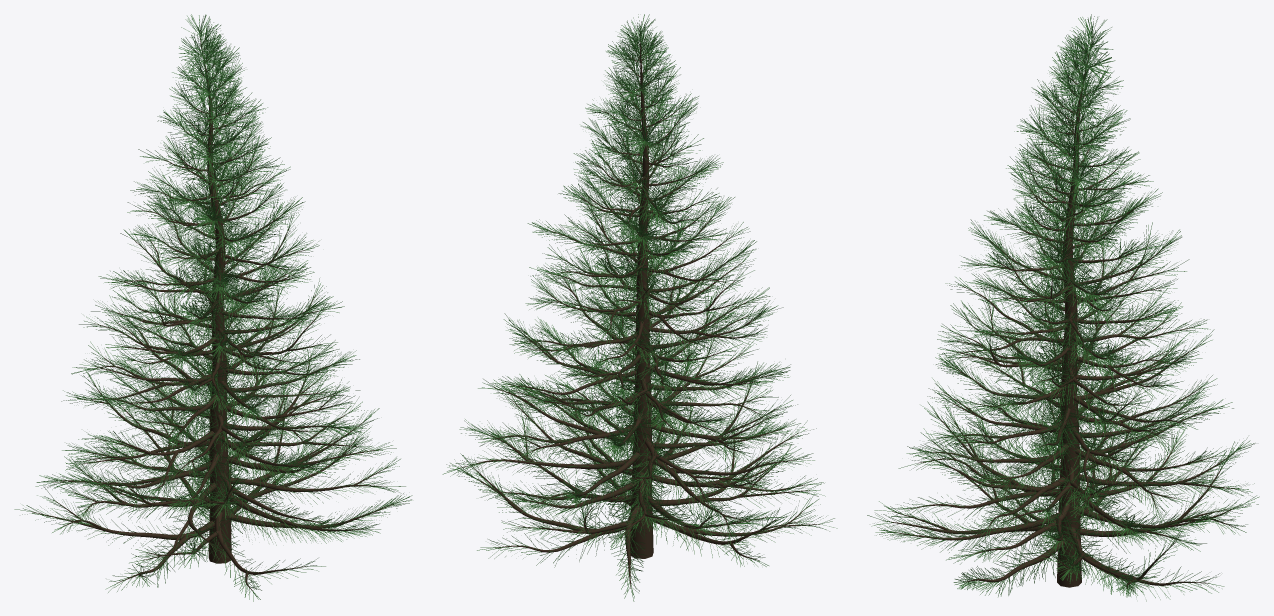
File: Pine_low.fbx
The picture shows the model from 3 angles, left to right: view 1: azimuth 30°, elevation 25°; view 2: azimuth 150°, elevation 25°; view 3: azimuth 270°, elevation 25°; orthographic projection. The views are drawn at different scales.
Visible parts, largest first — view 1: leaves.001, tree_low; view 2: leaves.001, tree_low; view 3: leaves.001, tree_low.
Boxes of the visible parts, x1,y1,x2,y2 form: leaves.001: [14, 14, 412, 601]; tree_low: [32, 31, 397, 590]; leaves.001: [442, 14, 837, 601]; tree_low: [460, 34, 820, 588]; leaves.001: [867, 14, 1259, 601]; tree_low: [885, 36, 1242, 588].
Size of the model in its own units: 318 by 488 by 310.
